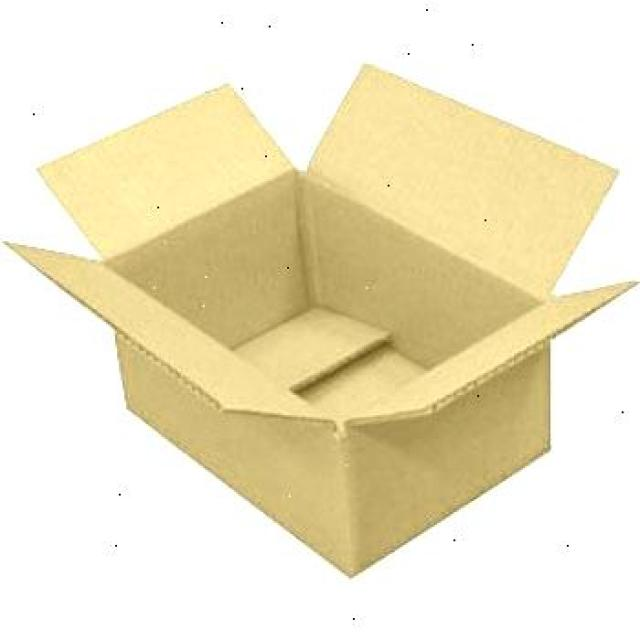box: (1, 62, 640, 579)
opened: (1, 62, 640, 432)
